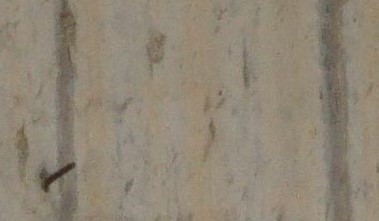Exposed reinforcement: (40, 161, 77, 192)
